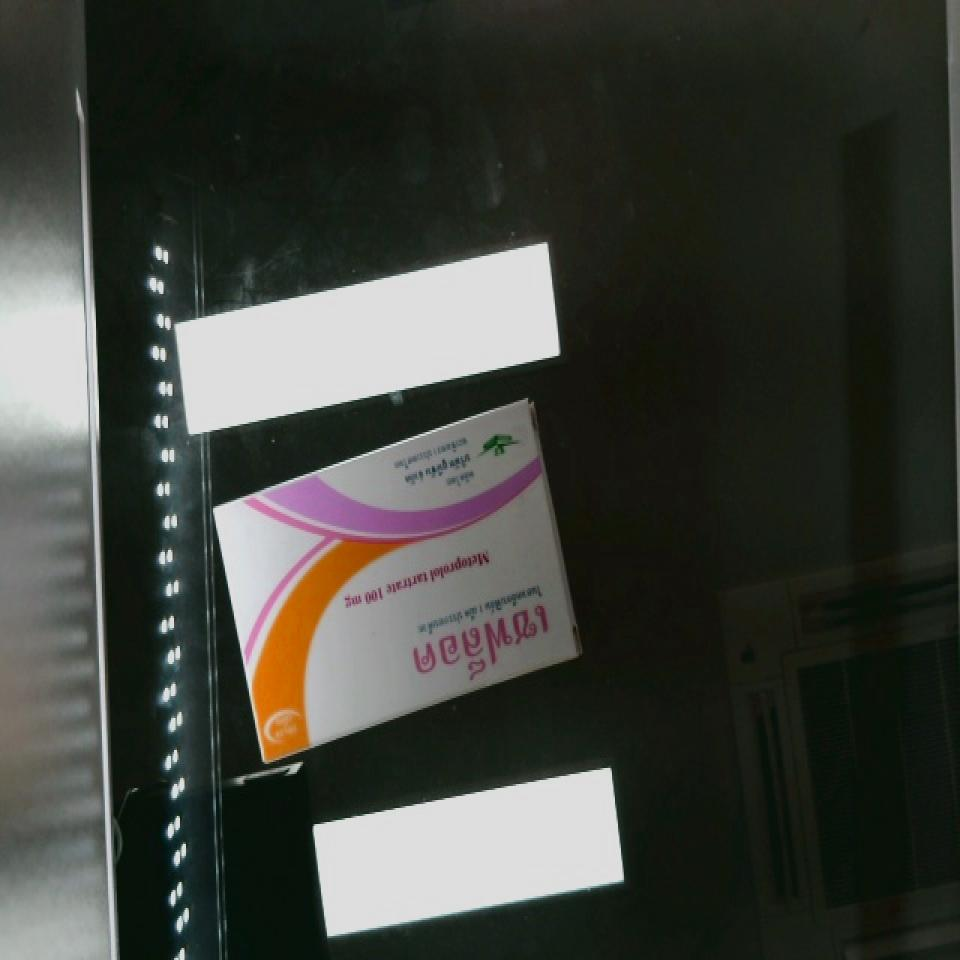medicine_box: (186, 399, 612, 760)
medicine_label_obb: (391, 578, 579, 699)
